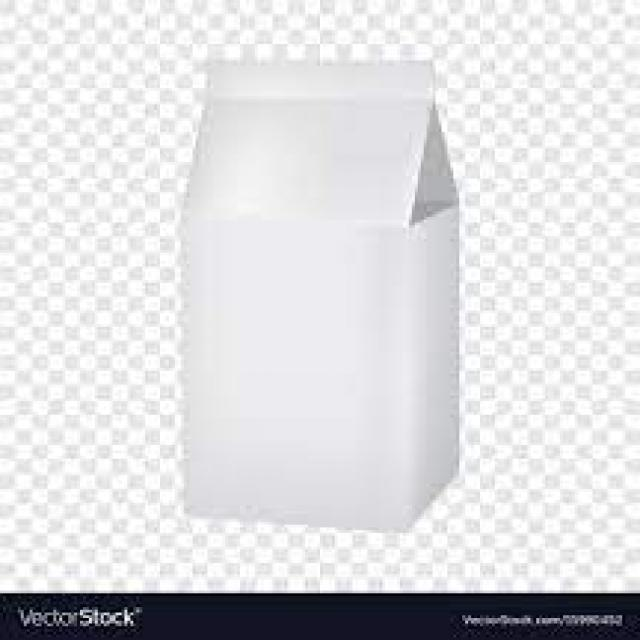non_white_jug: (169, 48, 465, 543)
